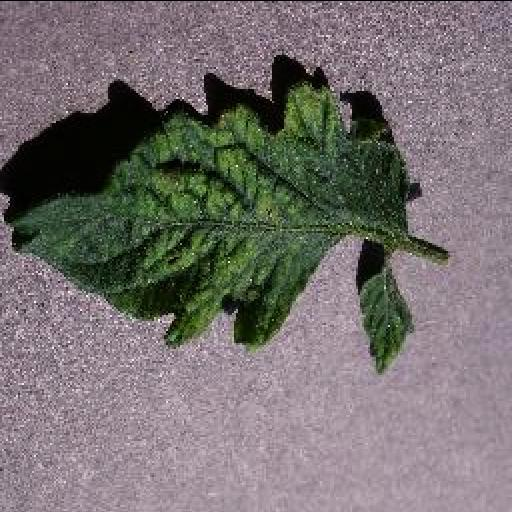disease_tomato: (8, 76, 418, 370)
